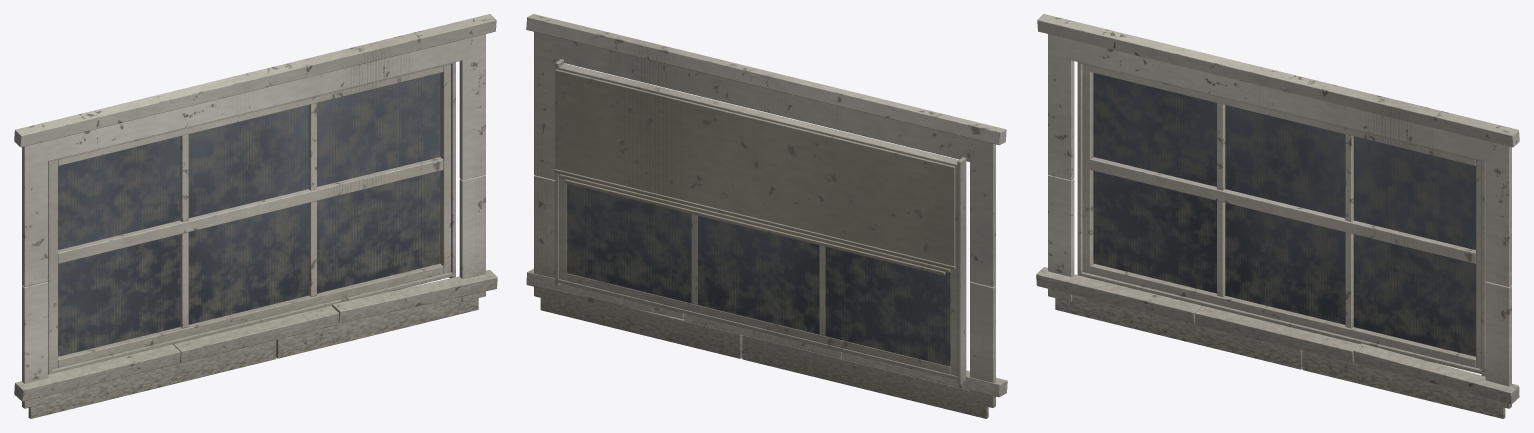
Rendered from window_wide.glb.
The picture shows the model from 3 angles, left to right: view 1: azimuth 30°, elevation 25°; view 2: azimuth 150°, elevation 25°; view 3: azimuth 330°, elevation 25°; orthographic projection.
Parts seen in each view (by area): view 1: window_wide_WearPaintedTrimB, window_wide_WearDirtyGlassB; view 2: window_wide_WearPaintedTrimB, window_wide_WearDirtyGlassB; view 3: window_wide_WearPaintedTrimB, window_wide_WearDirtyGlassB.
Boxes of the visible parts, x1,y1,x2,y2 form: window_wide_WearPaintedTrimB: [14, 14, 497, 418]; window_wide_WearDirtyGlassB: [58, 73, 440, 356]; window_wide_WearPaintedTrimB: [526, 14, 1007, 418]; window_wide_WearDirtyGlassB: [566, 183, 950, 366]; window_wide_WearPaintedTrimB: [1036, 14, 1519, 418]; window_wide_WearDirtyGlassB: [1093, 73, 1475, 356].
Bounding box in the file's own units: 2.39 × 1.4 × 0.1498.
2 materials, 2 textured.
